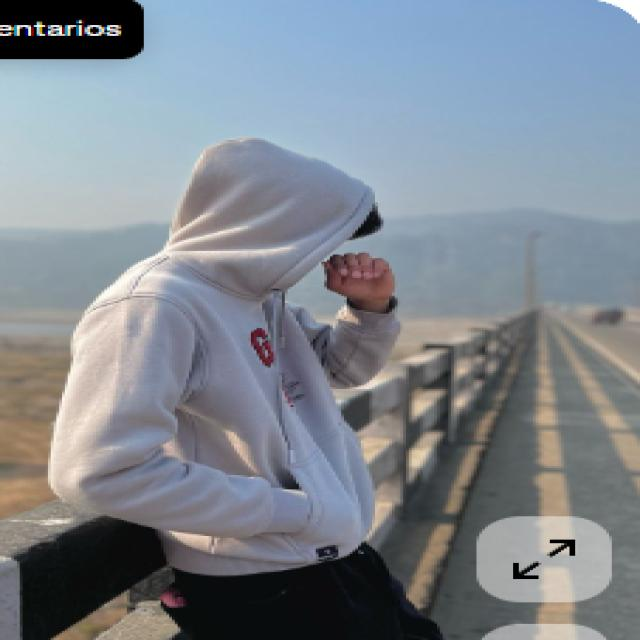4_capucha: (162, 137, 372, 302)
